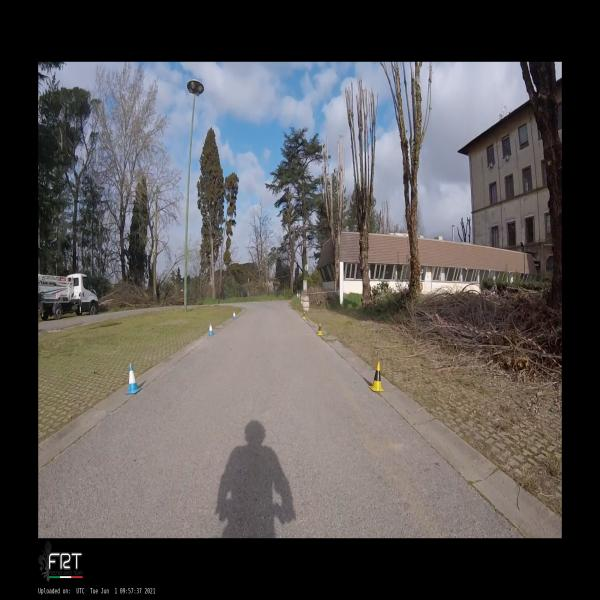blue_cone: (125, 364, 142, 394), (208, 322, 215, 335), (232, 311, 236, 319)
yellow_cone: (369, 361, 385, 392), (317, 321, 323, 335), (302, 312, 306, 320)
